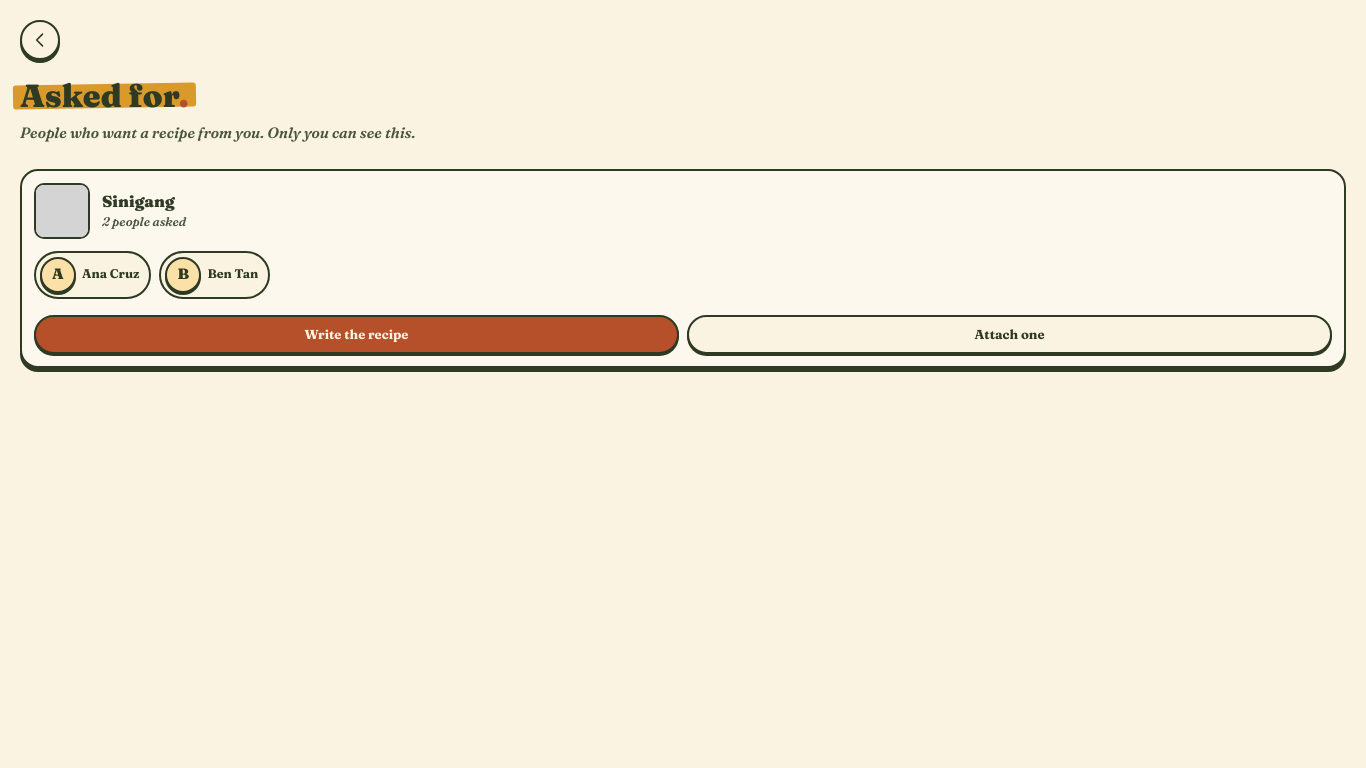
Test: Requests — the cook’s asks (#79) › surfaces a failure instead of pretending it sent
This screenshot has width=1366, height=768.
Check: the heading "Sinigang" is shown, box [102,191,175,211]
What coordinates should you click on to do the following:
click the button "Attach one"
I would click on:
 (1010, 334)
Its box is [687,314,1332,354].
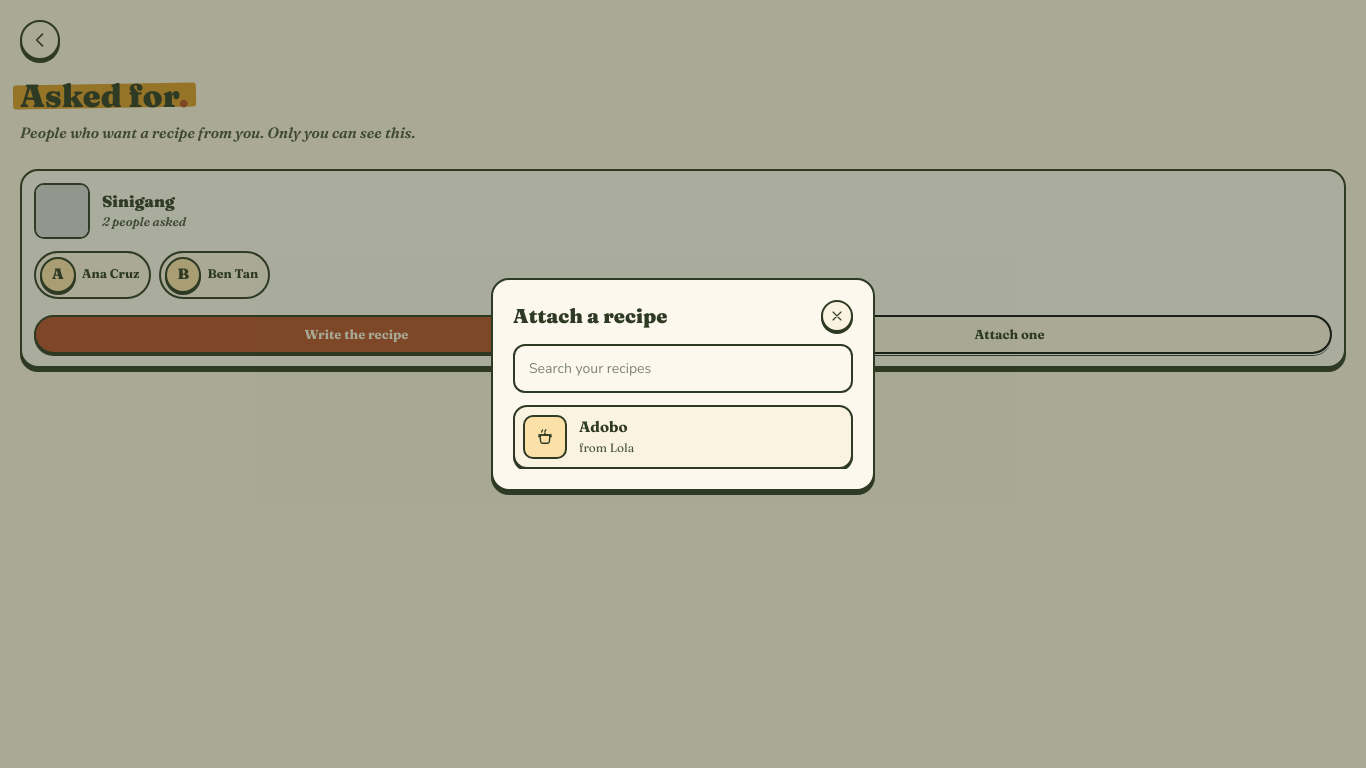
What coordinates should you click on to do the following:
click the text "Adobo"
I would click on:
 (607, 428)
Its box is [579,416,634,439].
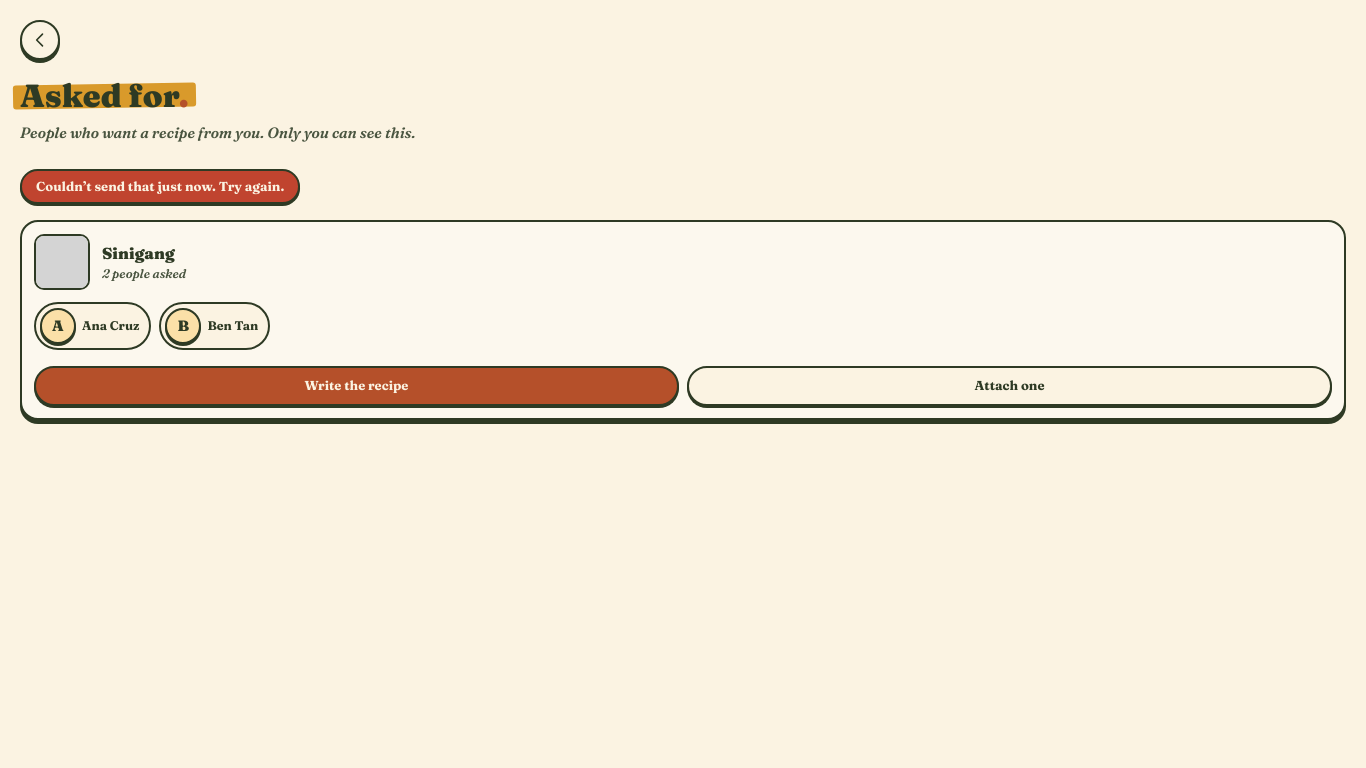
Check: the heading "Sinigang" is shown, box [102,243,175,263]
Check: the text "Couldn’t send that just now. Try again." is shown, box [20,168,300,204]
